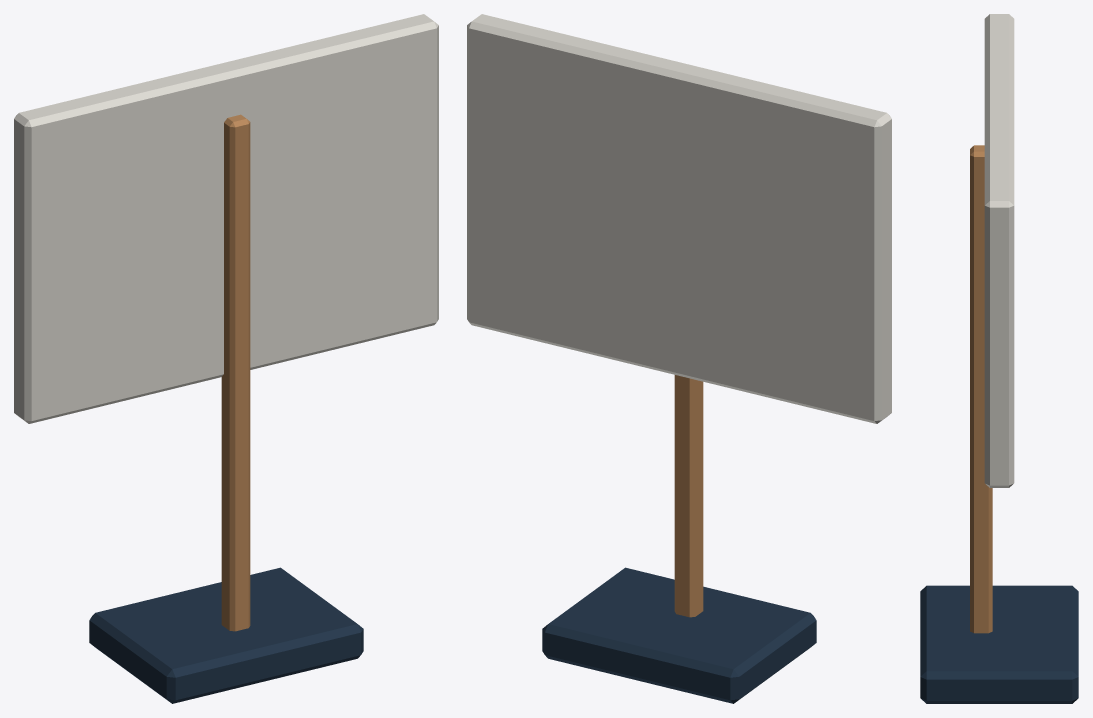
The model's file is SM_Wayfinding.obj.
3 views of the same model, side by side, from view 1: azimuth 30°, elevation 25°; view 2: azimuth 150°, elevation 25°; view 3: azimuth 270°, elevation 25° (orthographic). The views are drawn at different scales.
Visible parts, largest first — view 1: SM_Wayfinding; view 2: SM_Wayfinding; view 3: SM_Wayfinding.
Boxes of the visible parts, x1,y1,x2,y2 form: SM_Wayfinding: (14, 14, 438, 703); SM_Wayfinding: (467, 14, 891, 703); SM_Wayfinding: (920, 14, 1078, 703).
Size of the model in its own units: 2 by 2.7 by 0.7.
